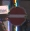No entry: (6, 6, 25, 26)
